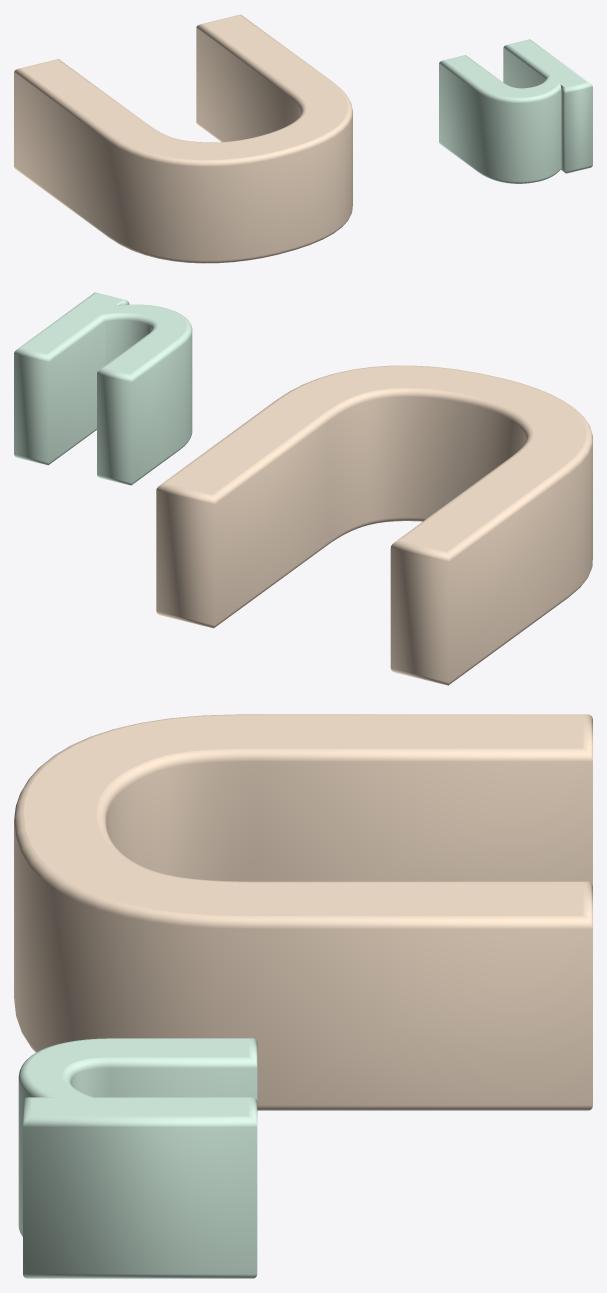
The model's file is vocal_U.glb.
3 renders of one model, top to bottom at view 1: azimuth 30°, elevation 25°; view 2: azimuth 150°, elevation 25°; view 3: azimuth 270°, elevation 25°, orthographic. The views are drawn at different scales.
Visible parts, largest first — view 1: U_Mayuscula, u_minuscula; view 2: U_Mayuscula, u_minuscula; view 3: U_Mayuscula, u_minuscula.
Part boxes in pixels (box(x1,y1,x2,y2)): U_Mayuscula: box(14, 14, 352, 263); u_minuscula: box(439, 39, 592, 183); U_Mayuscula: box(156, 365, 592, 685); u_minuscula: box(14, 292, 192, 485); U_Mayuscula: box(14, 714, 592, 1110); u_minuscula: box(18, 1038, 257, 1278).
Size of the model in its own units: 2.87 by 0.66 by 1.79.
